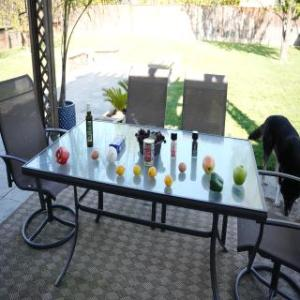bell_pepper: (208, 171, 224, 193), (54, 145, 70, 165)
egg: (178, 163, 188, 175), (92, 149, 100, 161)
onion: (104, 147, 118, 165)
